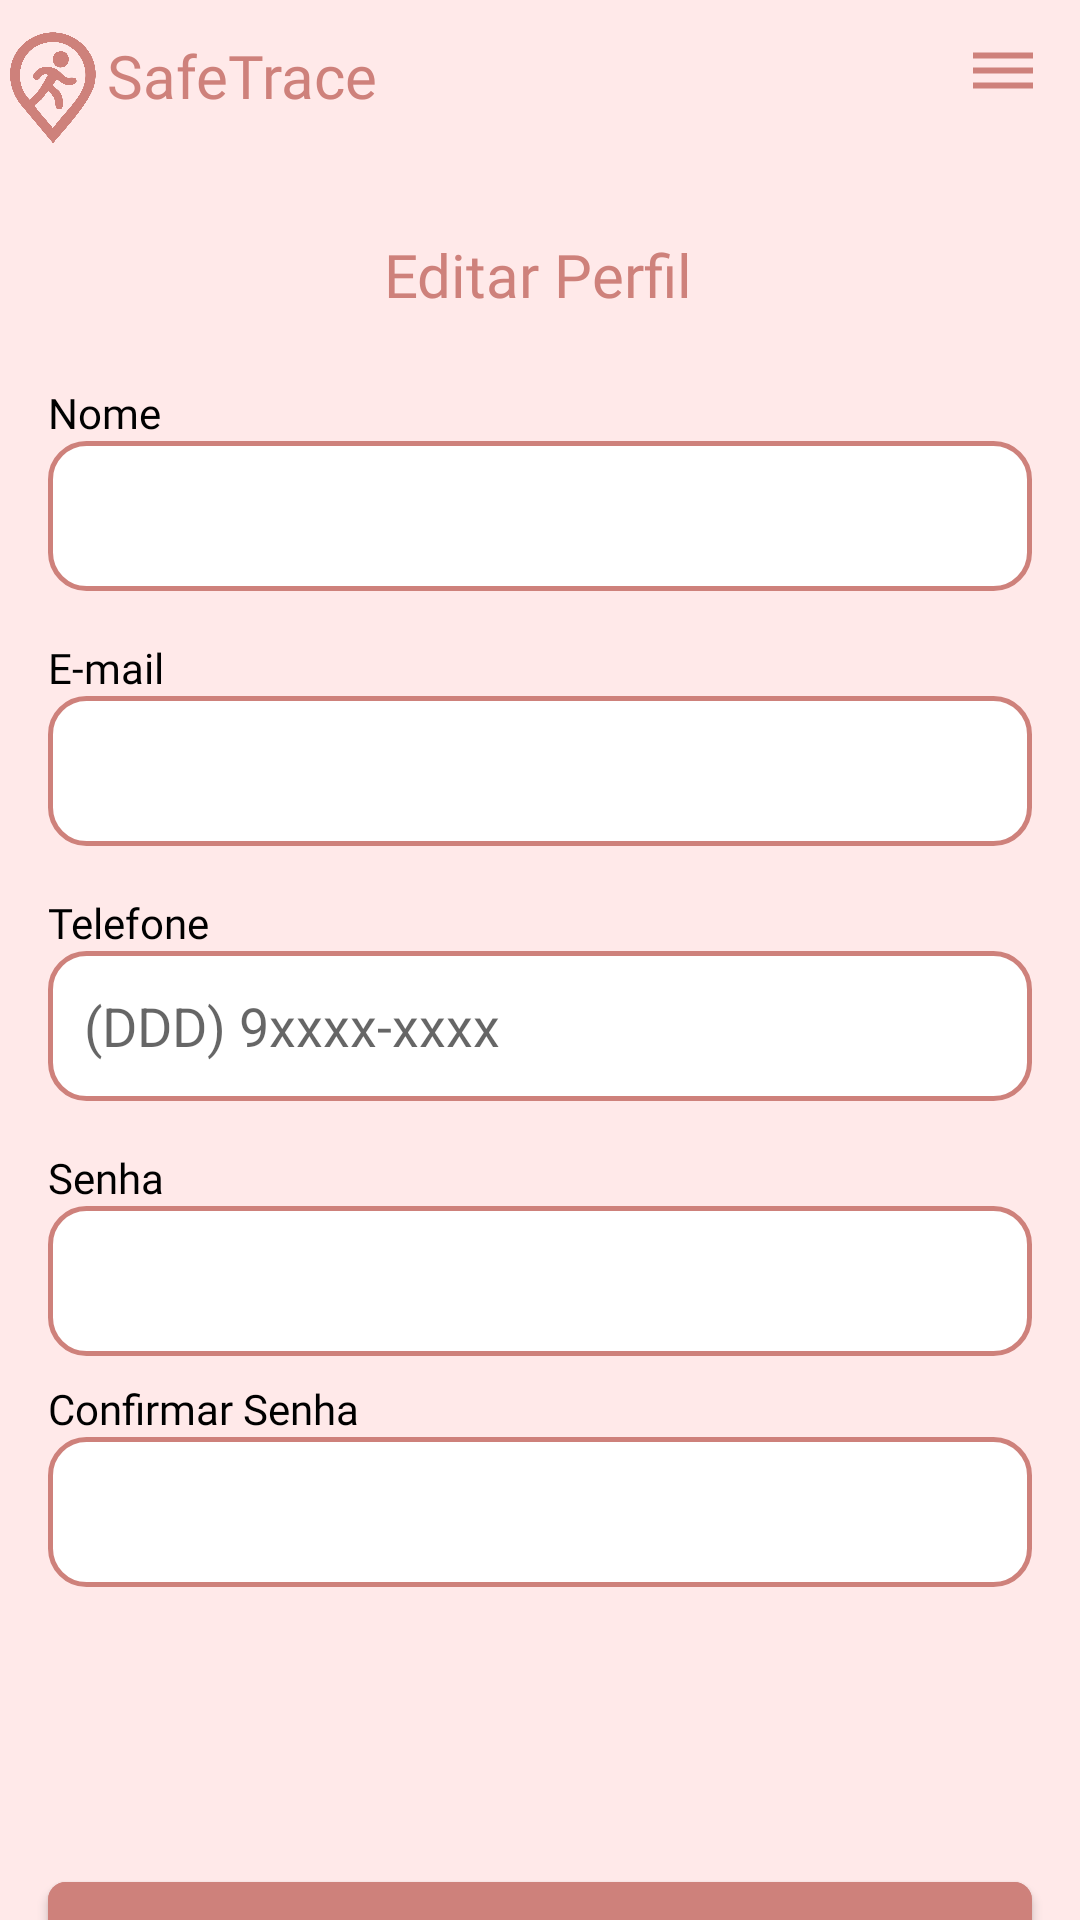

Point at icon controls on the screen. Image size 1080x1920, points as (x,y).
dehaze: (1003,70)
